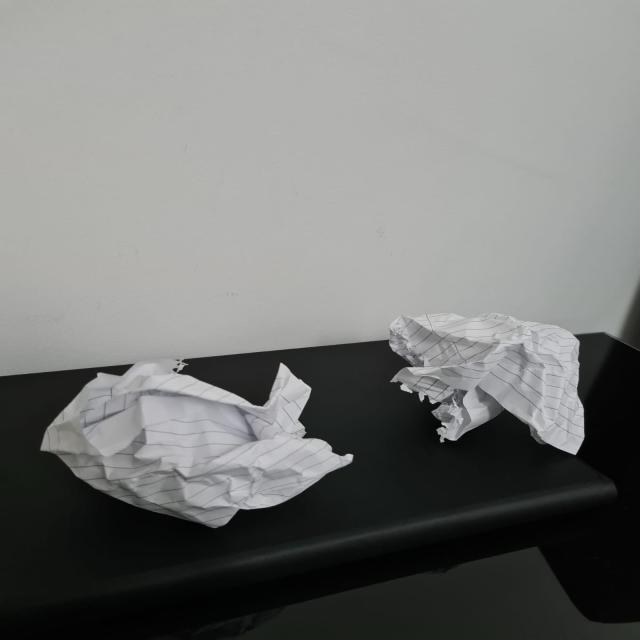Paper: (42, 360, 356, 523), (388, 315, 587, 454)
